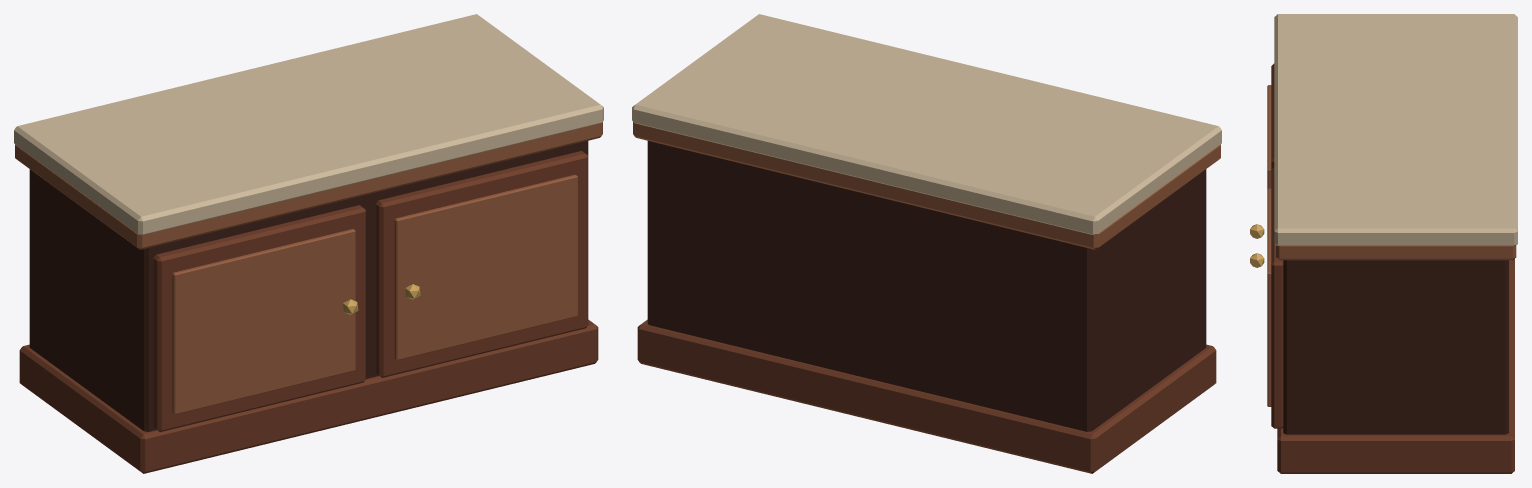
File: work_counter_02.glb
3 views of the same model, side by side, from view 1: azimuth 30°, elevation 25°; view 2: azimuth 150°, elevation 25°; view 3: azimuth 270°, elevation 25° (orthographic). The views are drawn at different scales.
Parts seen in each view (by area): view 1: Worktop, Body, Inset_00, Inset_01, Plinth, Front_01, Front_00, Top; view 2: Body, Worktop, Plinth, Top; view 3: Worktop, Body, Plinth, Top, Front_01, Inset_01, Inset_00, Front_00.
Boxes of the visible parts, x1,y1,x2,y2 form: Worktop: [14, 14, 603, 235]; Body: [29, 141, 588, 431]; Inset_00: [172, 229, 355, 414]; Inset_01: [394, 174, 577, 360]; Plinth: [19, 319, 598, 473]; Front_01: [375, 151, 588, 377]; Front_00: [153, 205, 365, 432]; Top: [15, 122, 602, 249]; Body: [647, 141, 1206, 431]; Worktop: [632, 14, 1221, 235]; Plinth: [637, 319, 1216, 473]; Top: [633, 122, 1220, 249]; Worktop: [1274, 14, 1517, 245]; Body: [1283, 260, 1508, 434]; Plinth: [1277, 259, 1514, 473]; Top: [1276, 245, 1516, 260]; Front_01: [1271, 167, 1283, 428]; Inset_01: [1267, 188, 1271, 406]; Inset_00: [1267, 85, 1271, 189]; Front_00: [1271, 63, 1274, 169].
Size of the model in its own units: 1.73 by 0.92 by 0.9018.
